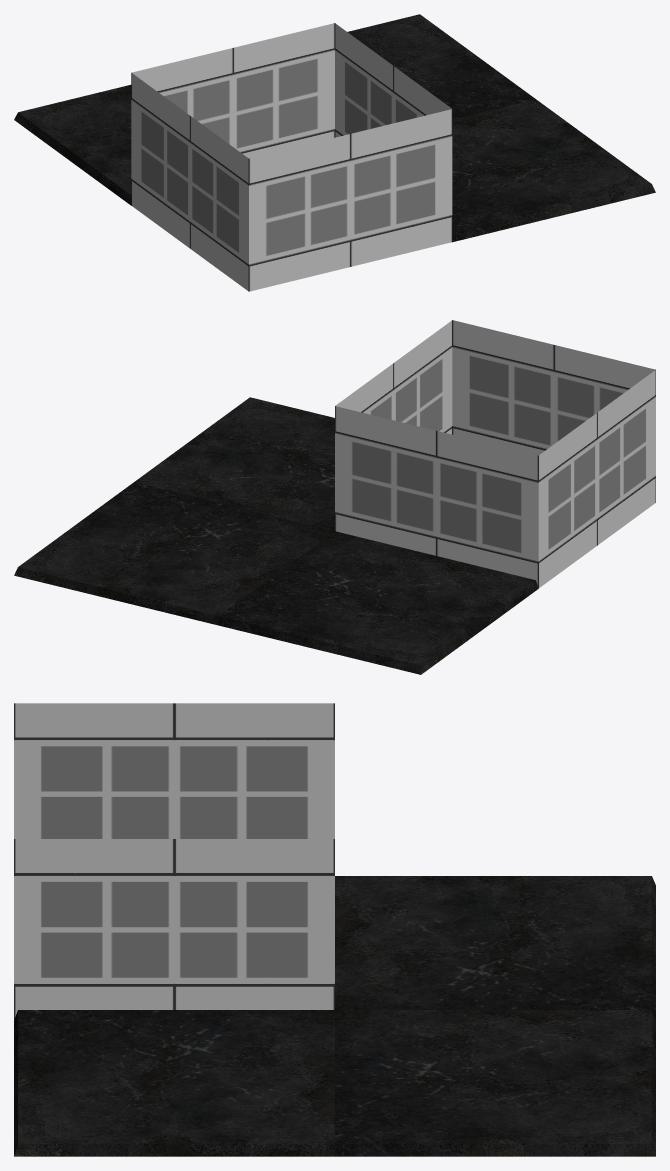
Rendered from highrise_4to1.glb.
The picture shows the model from 3 angles, top to bottom: view 1: azimuth 30°, elevation 25°; view 2: azimuth 150°, elevation 25°; view 3: azimuth 270°, elevation 25°; orthographic projection. The views are drawn at different scales.
Parts seen in each view (by area): view 1: Highrise.4to1; view 2: Highrise.4to1; view 3: Highrise.4to1.
Boxes of the visible parts, bbox=[...] form: Highrise.4to1: bbox=[14, 14, 655, 291]; Highrise.4to1: bbox=[14, 320, 655, 674]; Highrise.4to1: bbox=[14, 703, 655, 1156].
Bounding box in the file's own units: 0.8 × 0.2503 × 0.8.
1 material, 1 textured.
